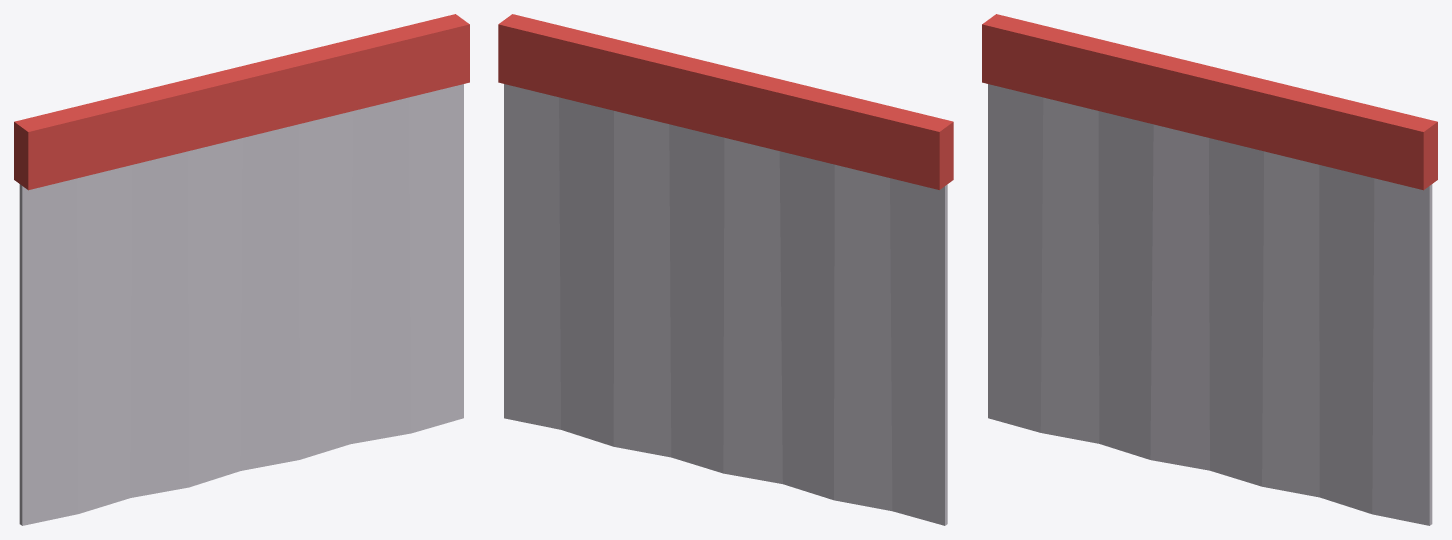
The model's file is hospital separator.fbx.
3 renders of one model, left to right at view 1: azimuth 30°, elevation 25°; view 2: azimuth 150°, elevation 25°; view 3: azimuth 330°, elevation 25°, orthographic.
Visible parts, largest first — view 1: hospital separator.001; view 2: hospital separator.001; view 3: hospital separator.001.
Boxes of the visible parts, x1,y1,x2,y2 form: hospital separator.001: [14, 14, 469, 525]; hospital separator.001: [498, 14, 953, 525]; hospital separator.001: [982, 14, 1437, 525].
Size of the model in its own units: 9.02 by 7.77 by 0.5018.
